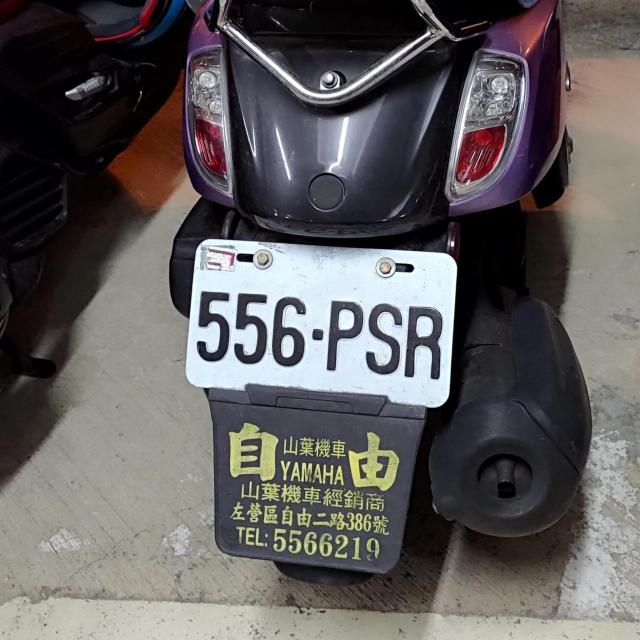W: (182, 237, 457, 409)
